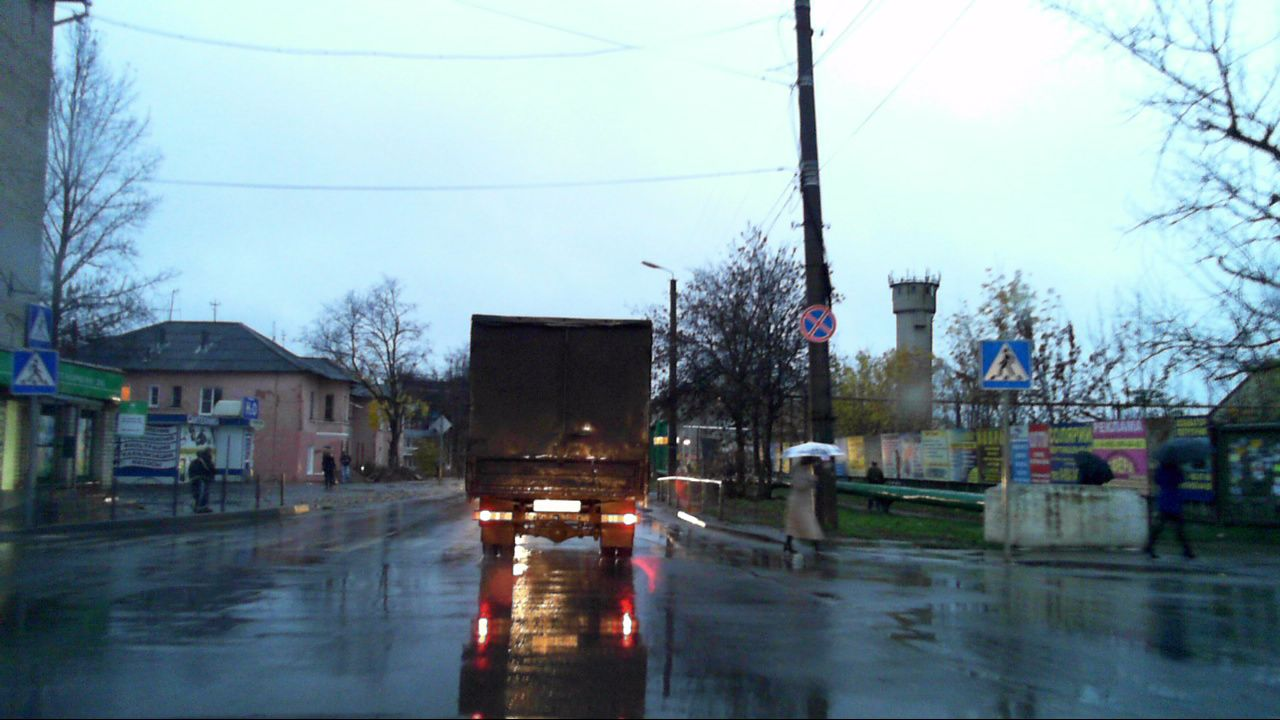No Parking: (799, 304, 836, 342)
